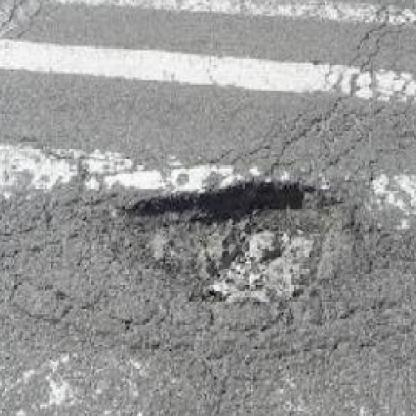pothole: (104, 174, 387, 313)
